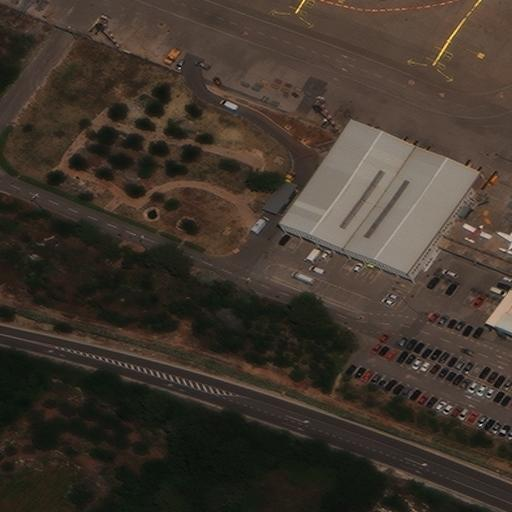Small Civil Transport: (465, 223, 492, 241), (496, 230, 511, 254)
